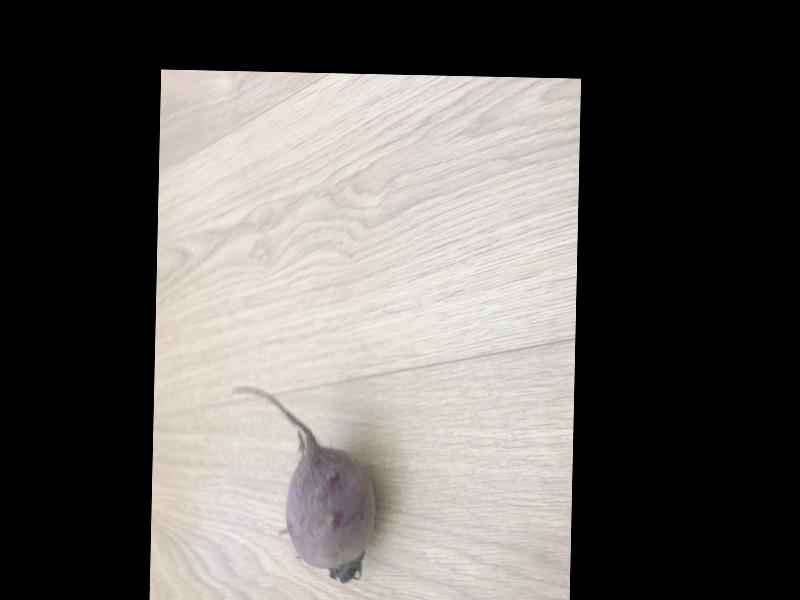Beet: (228, 382, 379, 580)
